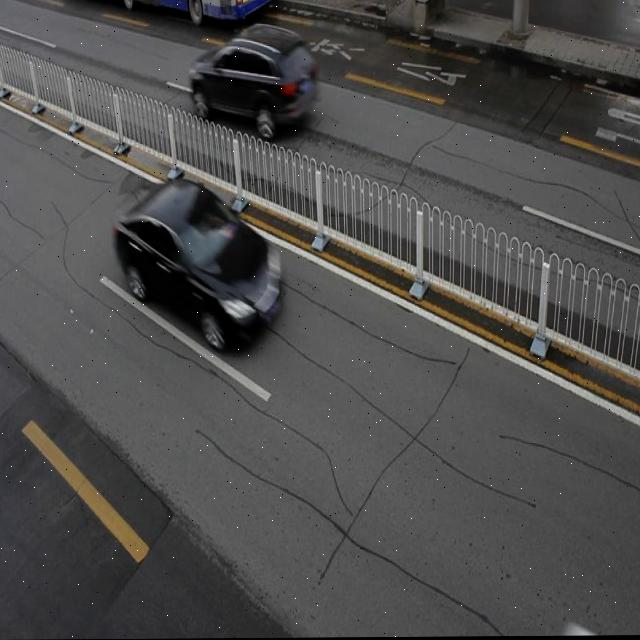car: (115, 178, 282, 349), (190, 25, 314, 135)
van: (57, 0, 273, 20)
